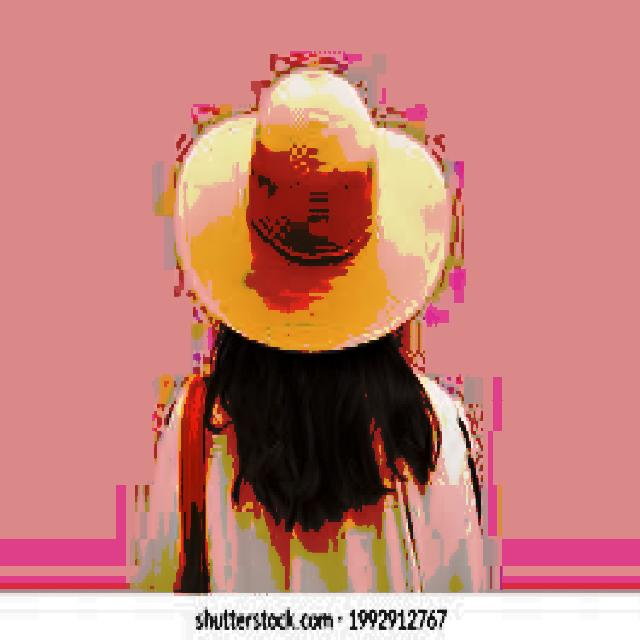TOPI: (169, 64, 452, 354)
